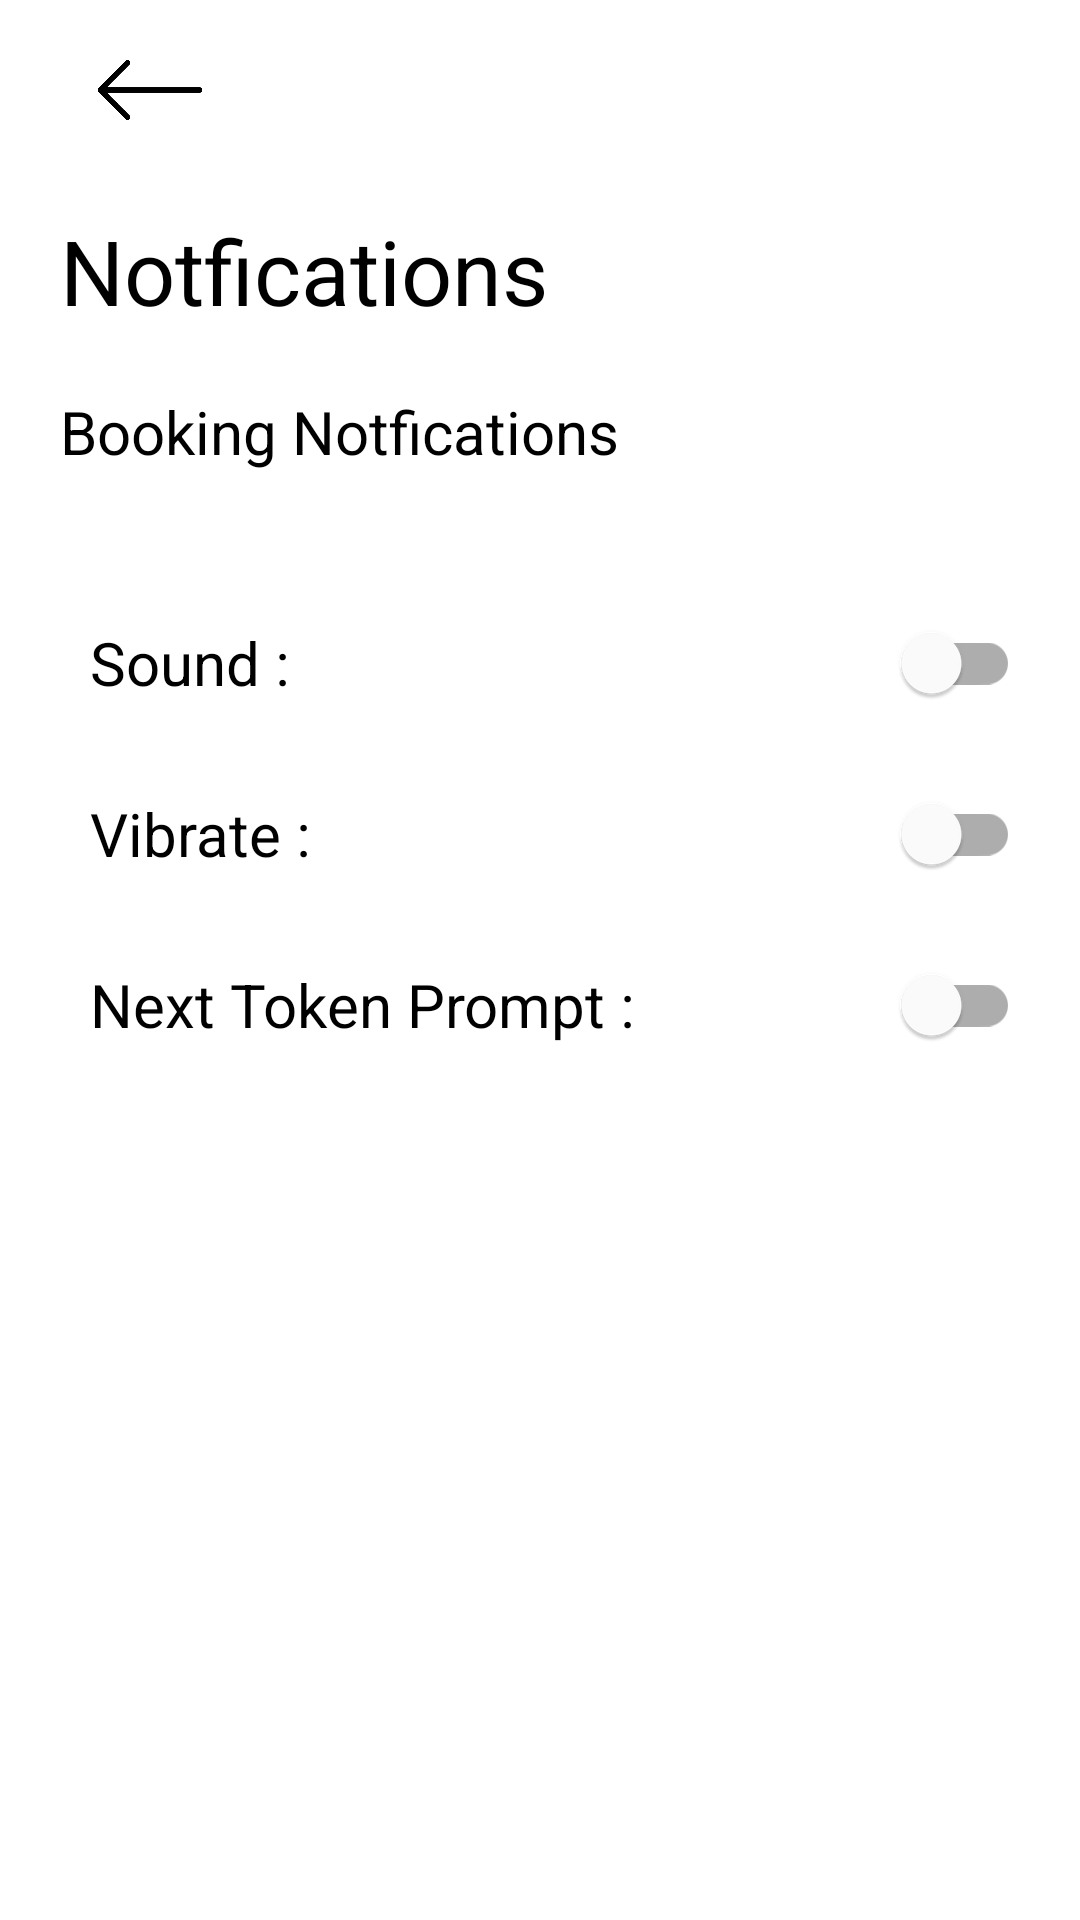

Screen size 1080x1920. Icon name, then its box in pixels as (x1, y1, x2, y2):
leftarrow: (98, 60, 202, 120)
